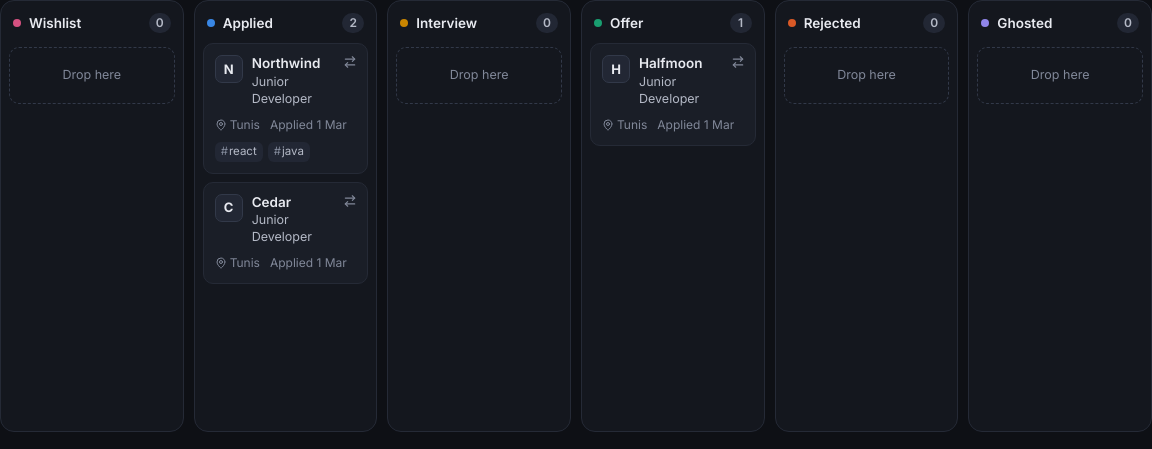
Test: KanbanBoard › closes the "Move to" menu with Escape without moving anything
The width and height of the screenshot is (1152, 449).
Click the button named "Move Halfmoon". click: [737, 62]
box: x1=724 y1=49 x2=750 y2=75
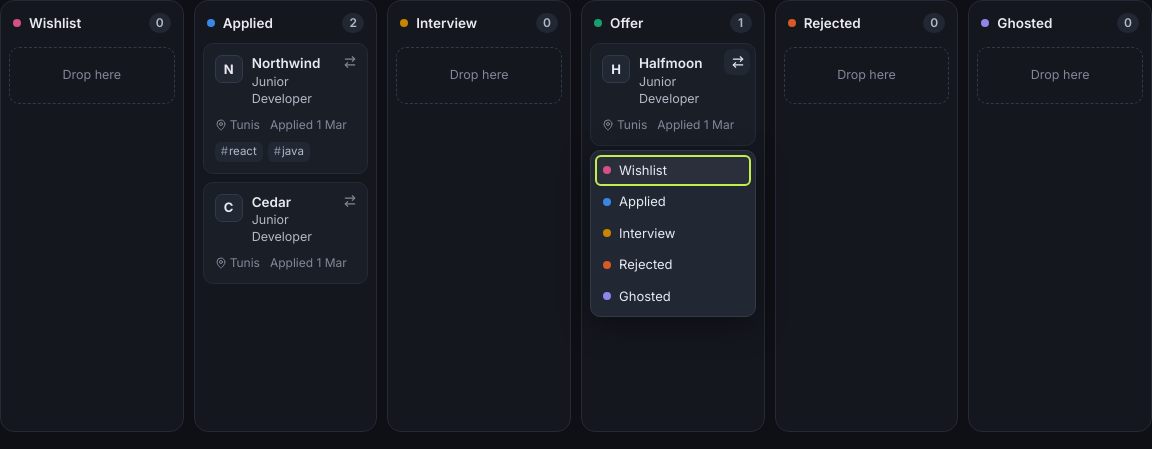
Press Escape
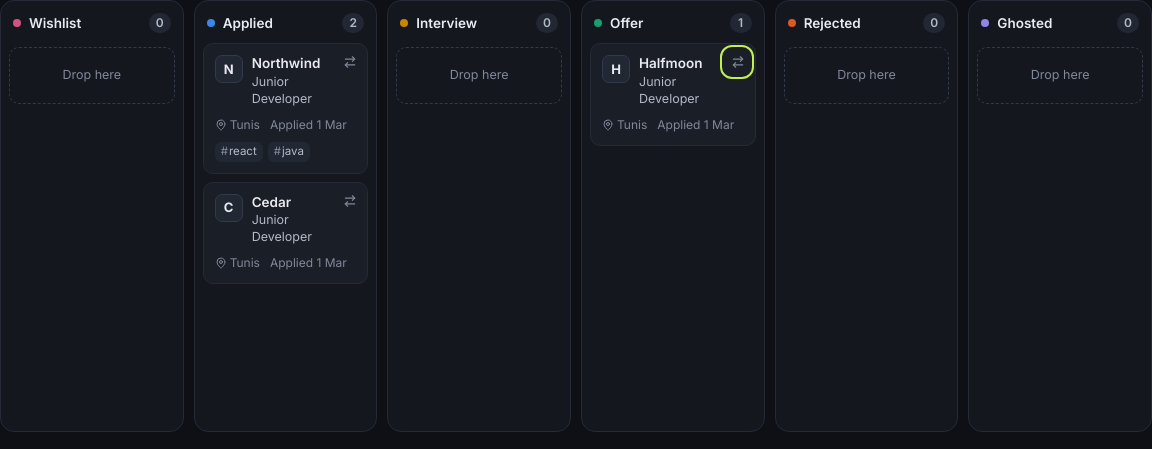
Expected: the menu is gone
